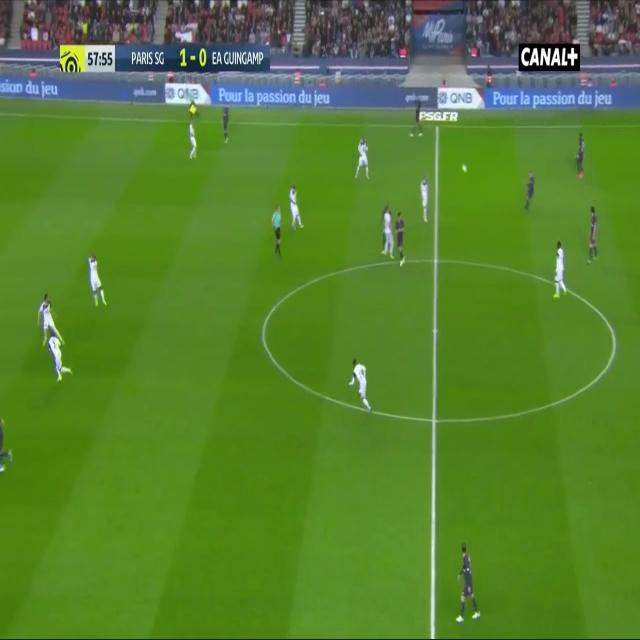Ball: (460, 160, 468, 176)
Player: (453, 540, 484, 625), (347, 354, 376, 414), (37, 287, 64, 350), (48, 330, 72, 384), (87, 252, 108, 310), (586, 202, 602, 266), (552, 242, 568, 303), (287, 184, 306, 231), (355, 138, 372, 184), (574, 128, 588, 182), (381, 208, 395, 260), (523, 166, 537, 217), (408, 103, 425, 143), (418, 172, 431, 224), (396, 207, 406, 270), (187, 118, 199, 165), (222, 102, 231, 148)
Referee: (270, 204, 284, 262)
